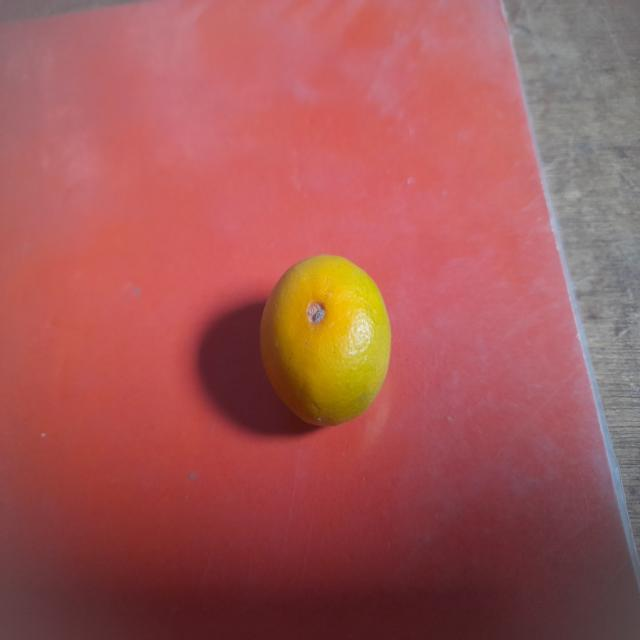greening: (259, 257, 391, 436)
